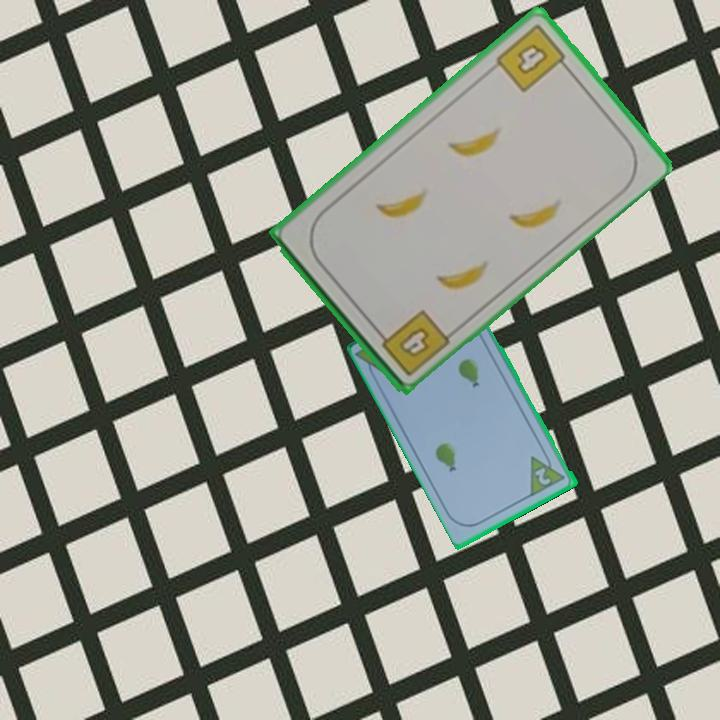2p: (531, 464, 554, 488)
4b: (492, 20, 573, 95), (371, 305, 453, 379)
